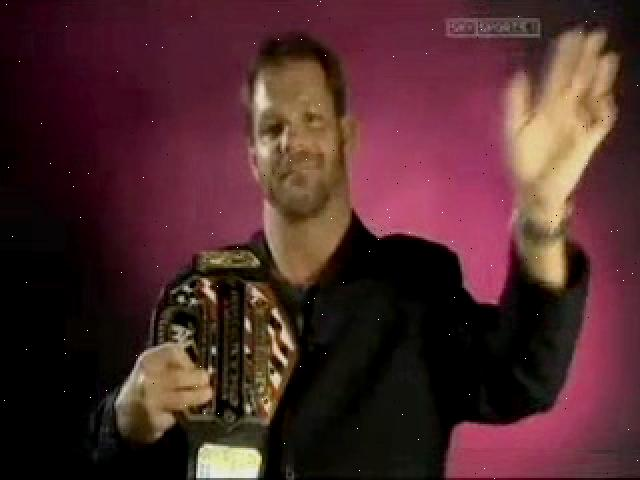L: (82, 28, 606, 478)
